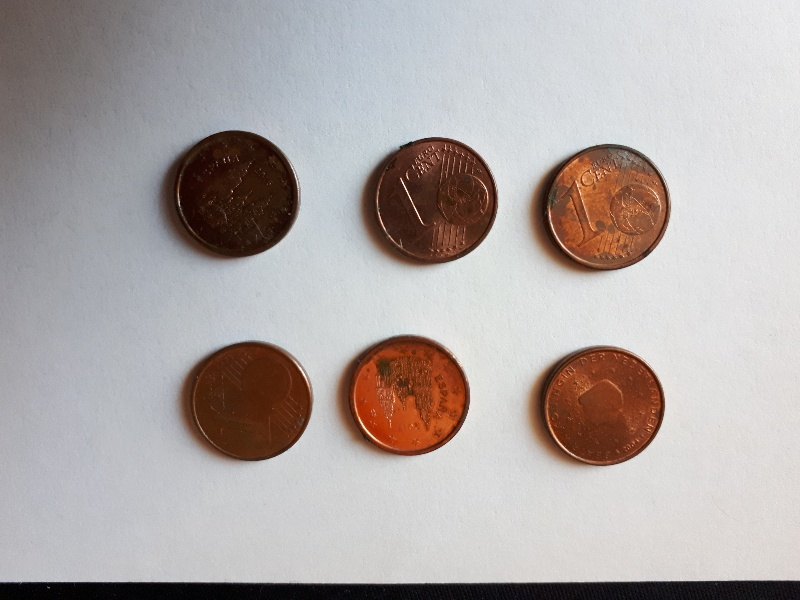1 cent: (167, 125, 305, 259), (371, 133, 504, 266), (540, 141, 670, 274), (183, 338, 318, 464), (346, 330, 473, 463), (542, 344, 670, 470)
